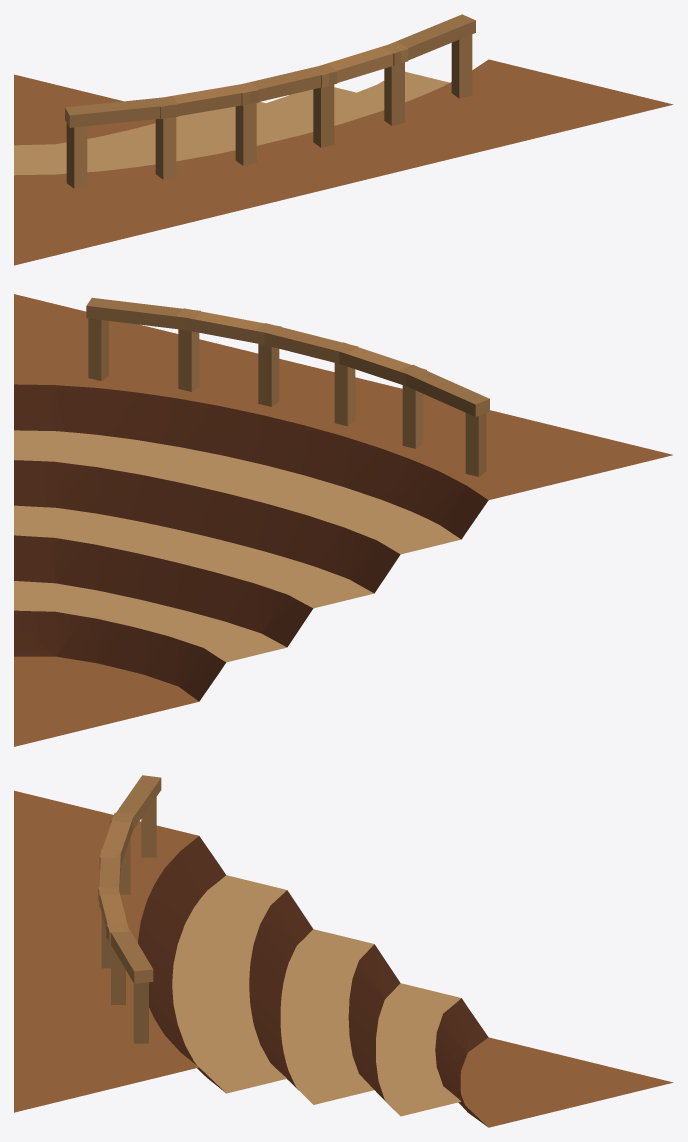
Rendered from MODULE_STEPWELL_RAMP_SIDE_COLONNADE.fbx.
The picture shows the model from 3 angles, top to bottom: view 1: azimuth 30°, elevation 25°; view 2: azimuth 150°, elevation 25°; view 3: azimuth 270°, elevation 25°; orthographic projection.
Parts seen in each view (by area): view 1: MODULE_STEPWELL_RAMP_SIDE_COLONNADE__export, MODULE_STEPWELL_RAMP_SIDE_COLONNADE_DECOR__export; view 2: MODULE_STEPWELL_RAMP_SIDE_COLONNADE__export, MODULE_STEPWELL_RAMP_SIDE_COLONNADE_DECOR__export; view 3: MODULE_STEPWELL_RAMP_SIDE_COLONNADE__export, MODULE_STEPWELL_RAMP_SIDE_COLONNADE_DECOR__export.
Part boxes in pixels (<box>): MODULE_STEPWELL_RAMP_SIDE_COLONNADE__export: <box>14,59,673,265</box>; MODULE_STEPWELL_RAMP_SIDE_COLONNADE_DECOR__export: <box>65,14,475,188</box>; MODULE_STEPWELL_RAMP_SIDE_COLONNADE__export: <box>14,294,672,746</box>; MODULE_STEPWELL_RAMP_SIDE_COLONNADE_DECOR__export: <box>86,297,489,476</box>; MODULE_STEPWELL_RAMP_SIDE_COLONNADE__export: <box>14,790,673,1127</box>; MODULE_STEPWELL_RAMP_SIDE_COLONNADE_DECOR__export: <box>98,775,161,1043</box>.
Size of the model in its own units: 100 by 29.65 by 86.6.
